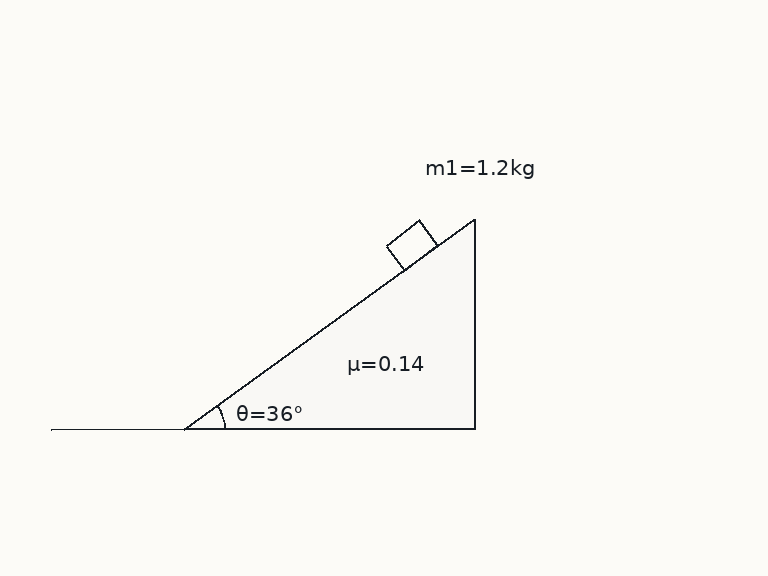block: (383, 219, 439, 273)
ramp: (183, 217, 476, 431)
